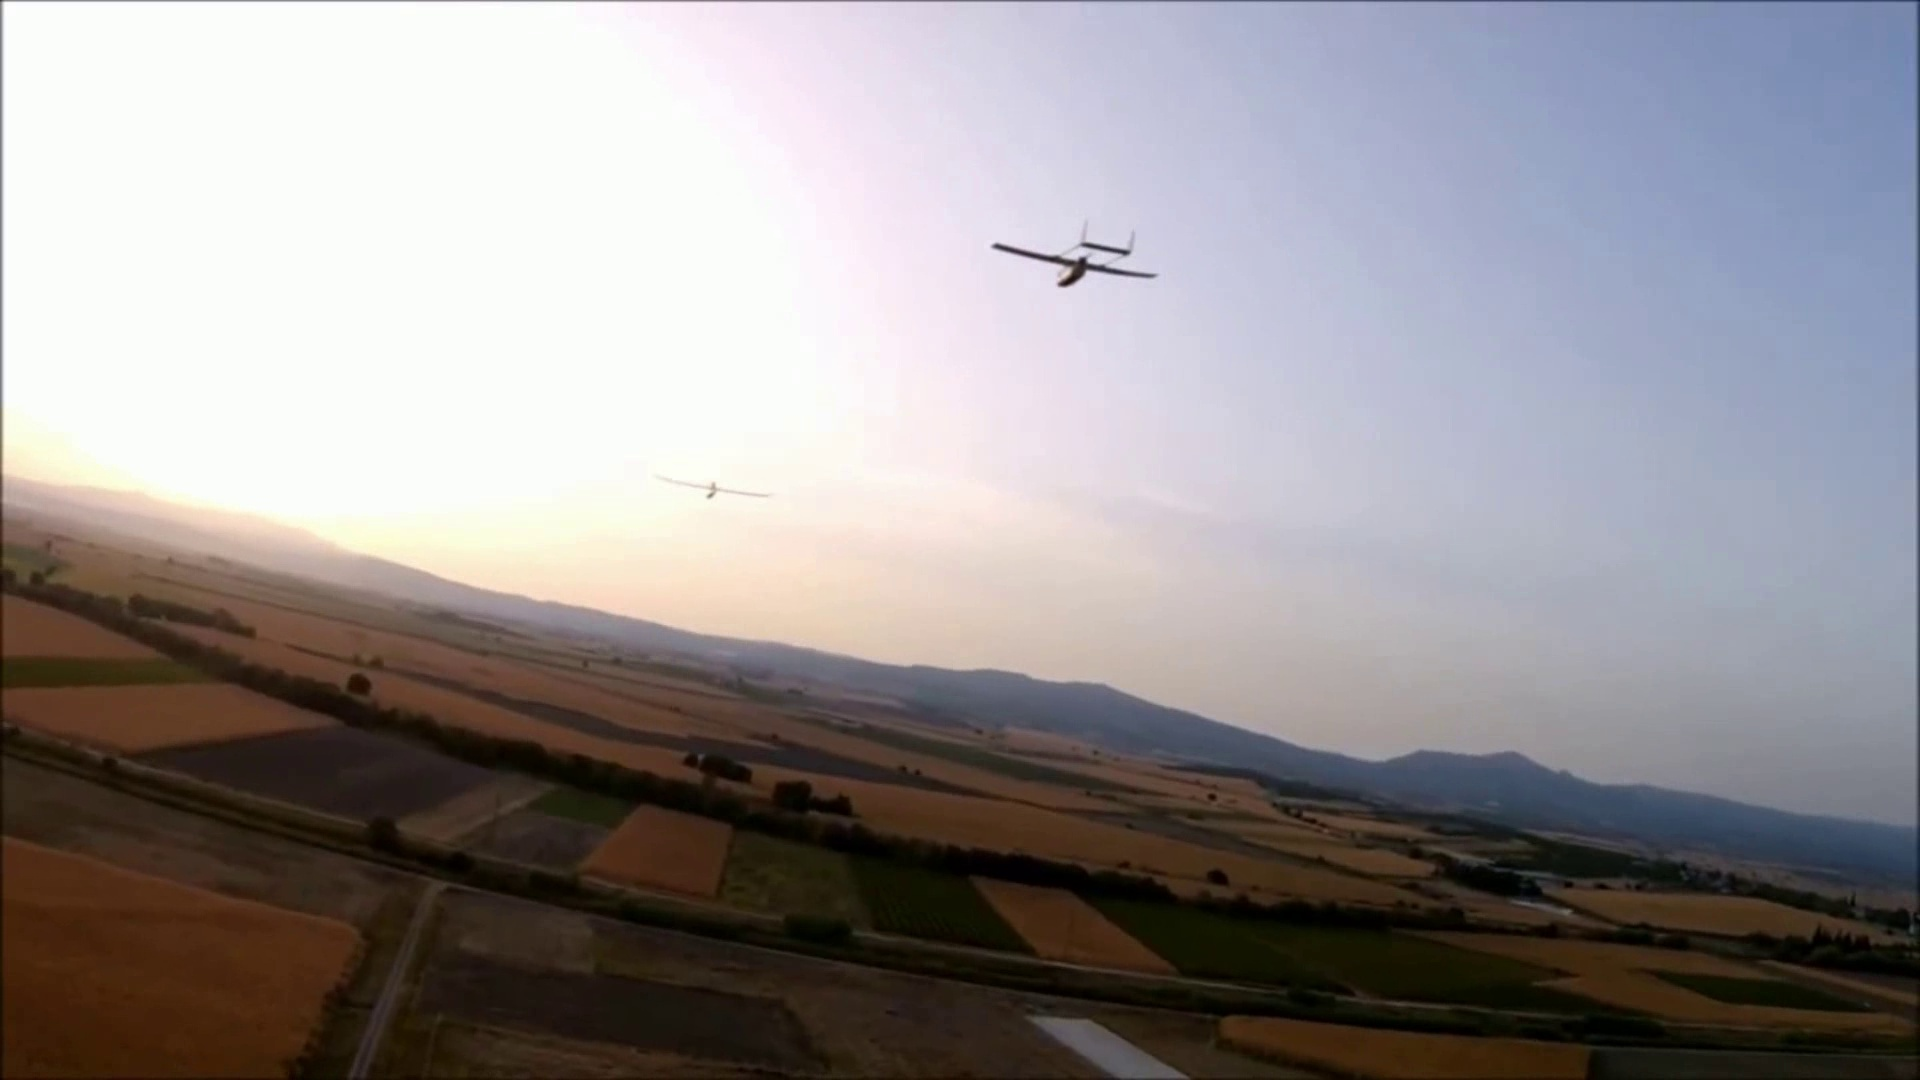airplane: (5, 407, 1887, 927), (992, 218, 1159, 287), (651, 469, 775, 500)
